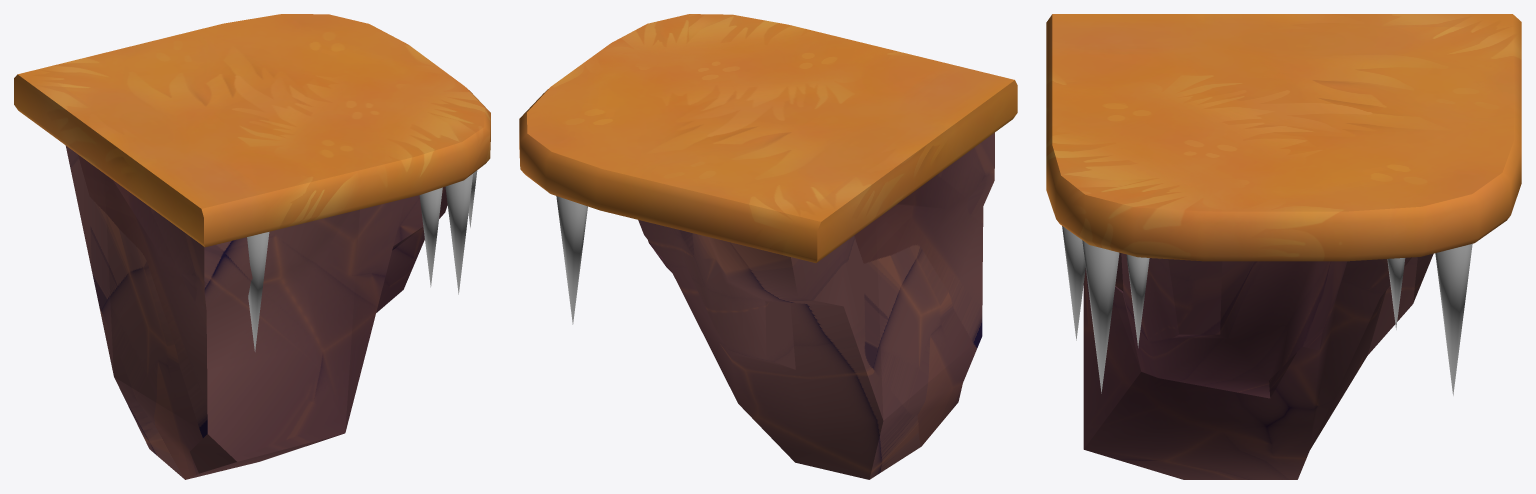
File: 2R Side.FBX
3 views of the same model, side by side, from view 1: azimuth 30°, elevation 25°; view 2: azimuth 150°, elevation 25°; view 3: azimuth 270°, elevation 25° (orthographic). The views are drawn at different scales.
Parts seen in each view (by area): view 1: 2R Side, Ice Rock016, Ice Rock017, Ice Rock015; view 2: 2R Side, Ice Rock012; view 3: 2R Side, Ice Rock012, Ice Rock016, Ice Rock015, Ice Rock014, Ice Rock013.
Part boxes in pixels (box(x1,y1,x2,y2)): 2R Side: box(14, 14, 490, 479); Ice Rock016: box(445, 173, 473, 294); Ice Rock017: box(247, 232, 269, 351); Ice Rock015: box(419, 187, 442, 287); 2R Side: box(519, 14, 1017, 479); Ice Rock012: box(556, 196, 587, 324); 2R Side: box(1046, 14, 1521, 479); Ice Rock012: box(1435, 244, 1472, 395); Ice Rock016: box(1082, 240, 1119, 393); Ice Rock015: box(1062, 226, 1085, 340); Ice Rock014: box(1126, 254, 1149, 347); Ice Rock013: box(1387, 258, 1405, 329).
Bounding box in the file's own units: 10.63 × 10.63 × 9.9.
